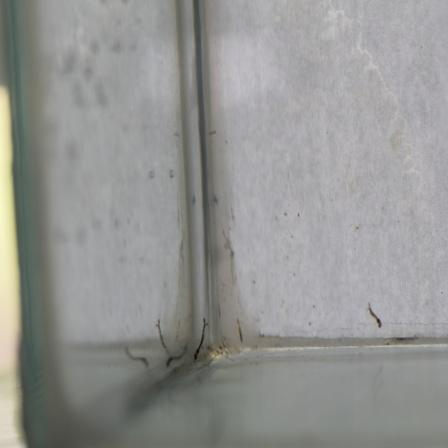Jentik-Nyamuk: (191, 318, 213, 362), (361, 299, 385, 328)
